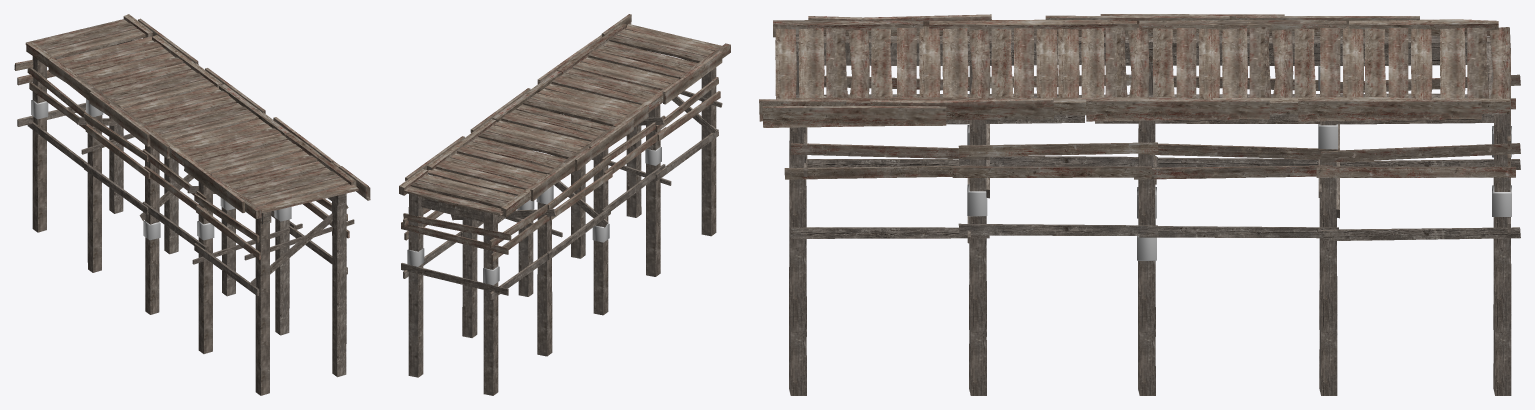
Rendered from Pier2.fbx.
The picture shows the model from 3 angles, left to right: view 1: azimuth 30°, elevation 25°; view 2: azimuth 150°, elevation 25°; view 3: azimuth 270°, elevation 25°; orthographic projection. The views are drawn at different scales.
Parts seen in each view (by area): view 1: polySurface872; view 2: polySurface872; view 3: polySurface872.
Part boxes in pixels (x1,y1,x2,y2): polySurface872: (14,14,370,395); polySurface872: (399,14,730,395); polySurface872: (759,14,1520,395).
Bounding box in the file's own units: 3.46 × 5.33 × 12.02.
